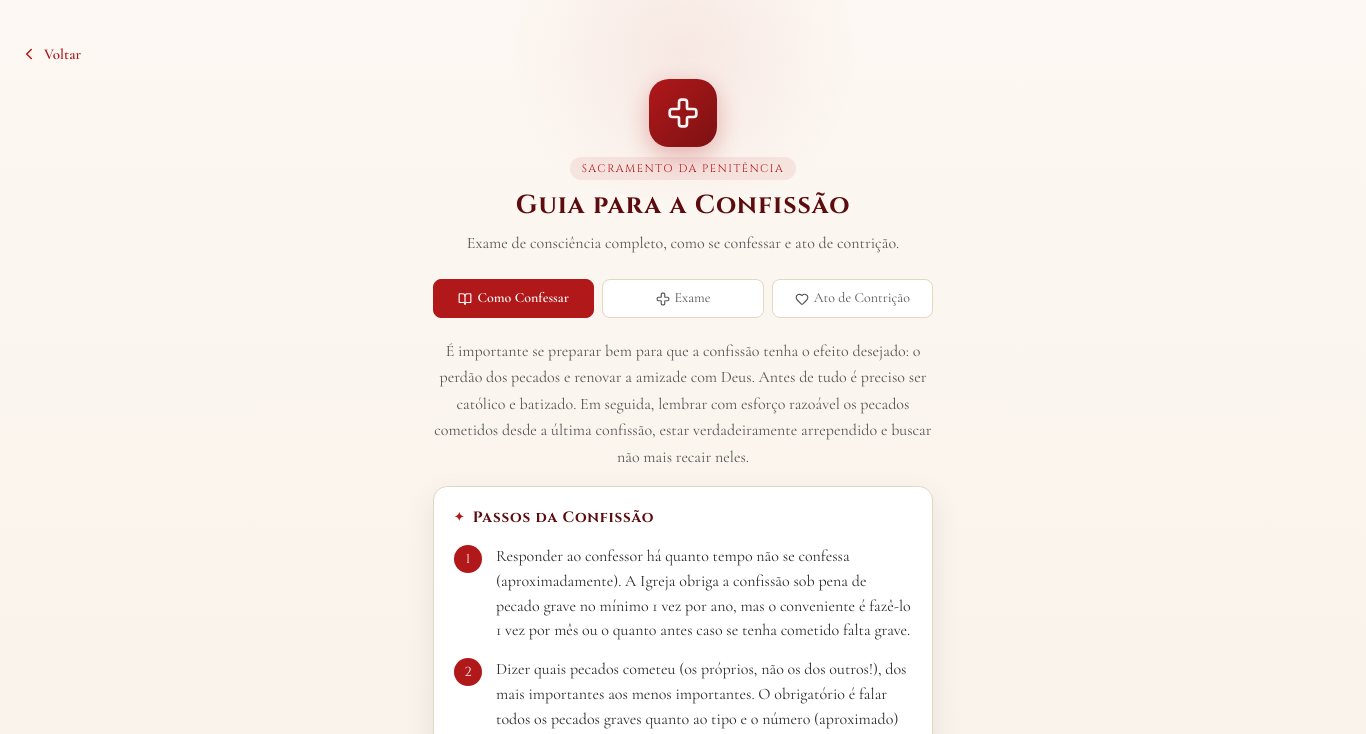
Confissao › switches to the contrition tab
Click the button "Ato de Contrição". click: [852, 299]
box: left=772, top=279, right=933, bottom=318
(page scrolled)
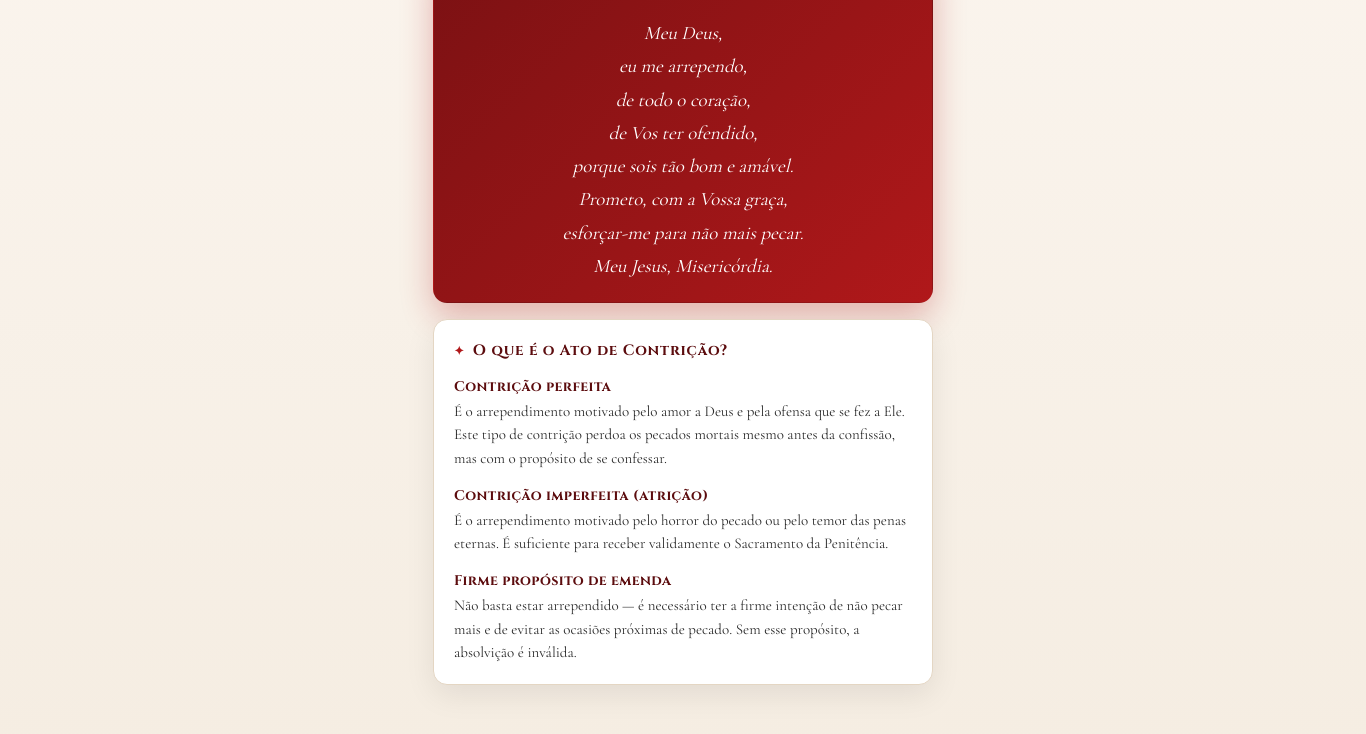
Now the heading "✦ O que é o Ato de Contrição?" is shown, box left=454, top=340, right=728, bottom=361
Now the text "Contrição perfeita" is shown, box left=454, top=377, right=611, bottom=396
